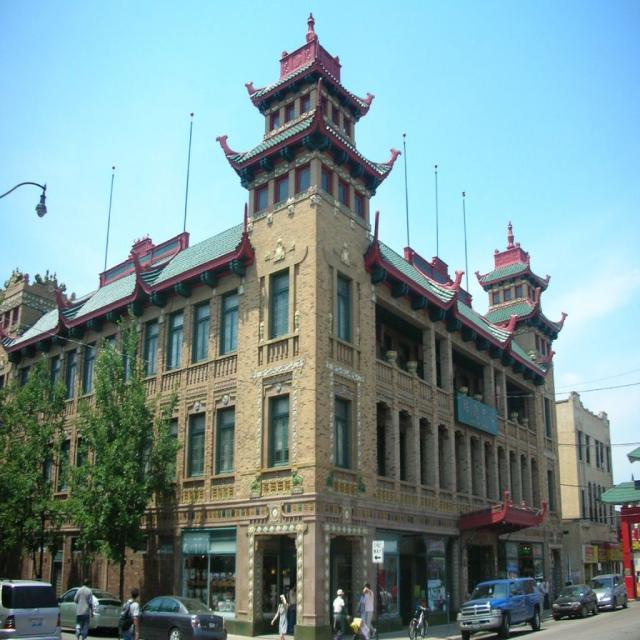car: (458, 572, 545, 638), (591, 567, 630, 610), (551, 581, 593, 614)
